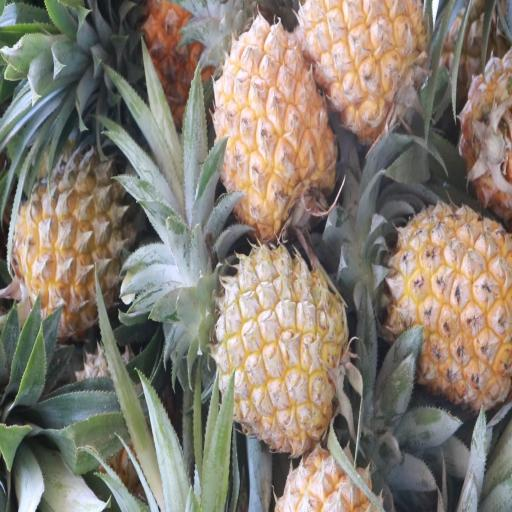------------------------------: (9, 157, 133, 336)
Pineapple - v8 v1: (216, 241, 347, 455), (210, 22, 337, 233), (385, 201, 510, 411), (298, 2, 428, 130)
